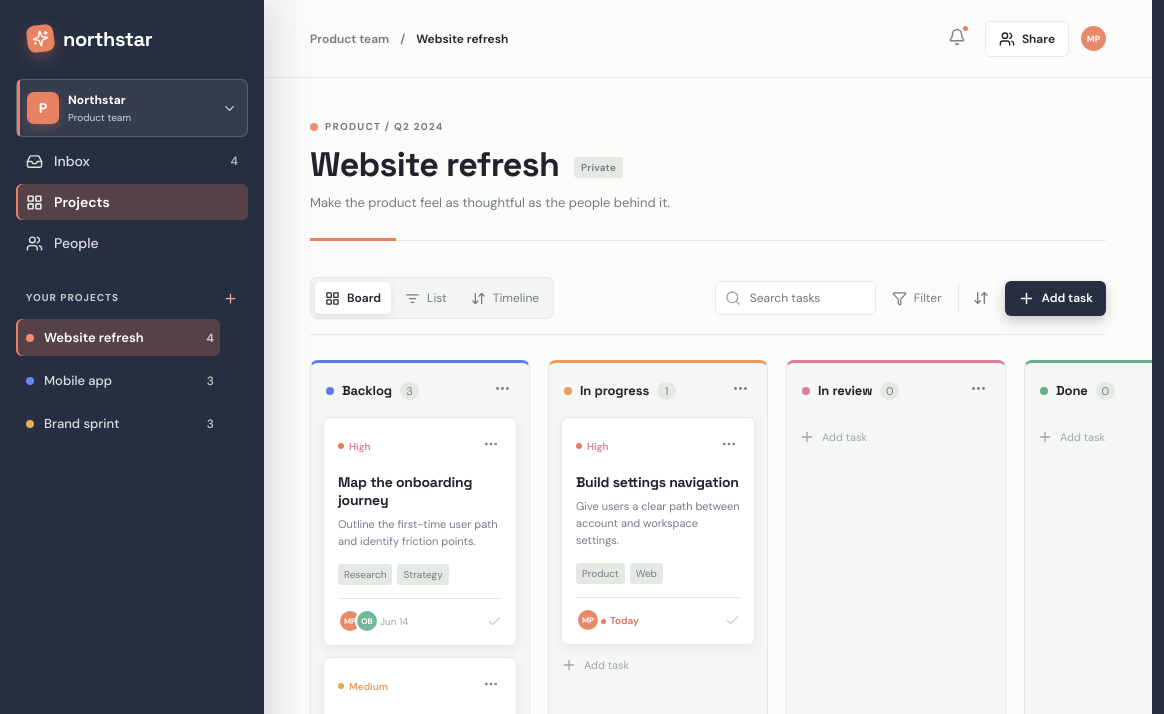
Test: Notifications panel › toggles notification panel visibility
This screenshot has width=1164, height=714.
Click the button named "Notifications".
click(957, 38)  # box top-left (941, 20), bottom-right (973, 56)
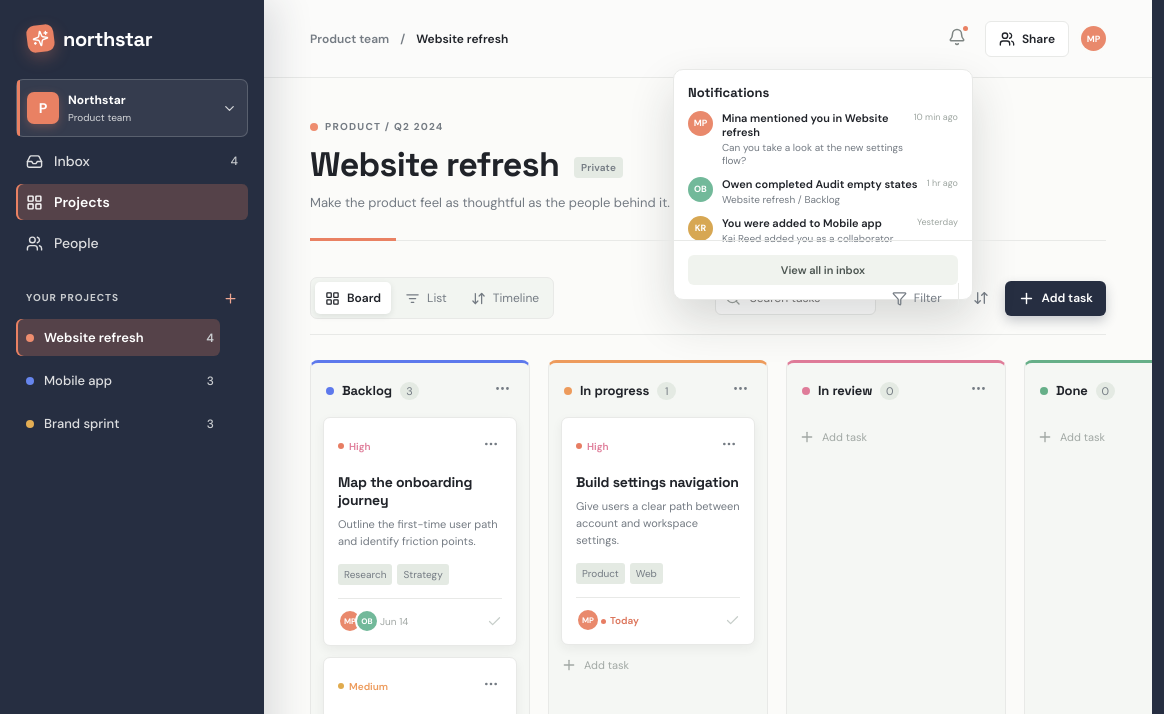
Check: the heading "Notifications" is shown, box top-left (688, 84), bottom-right (769, 100)
